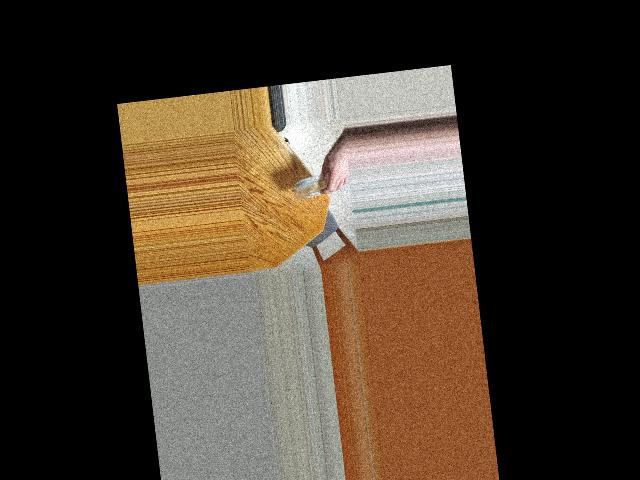cheese: (290, 155, 342, 208)
